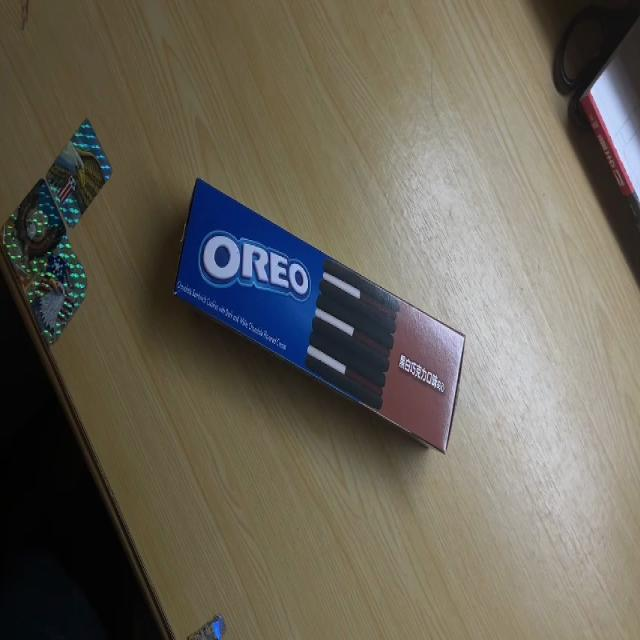Oreo: (171, 171, 467, 457)
